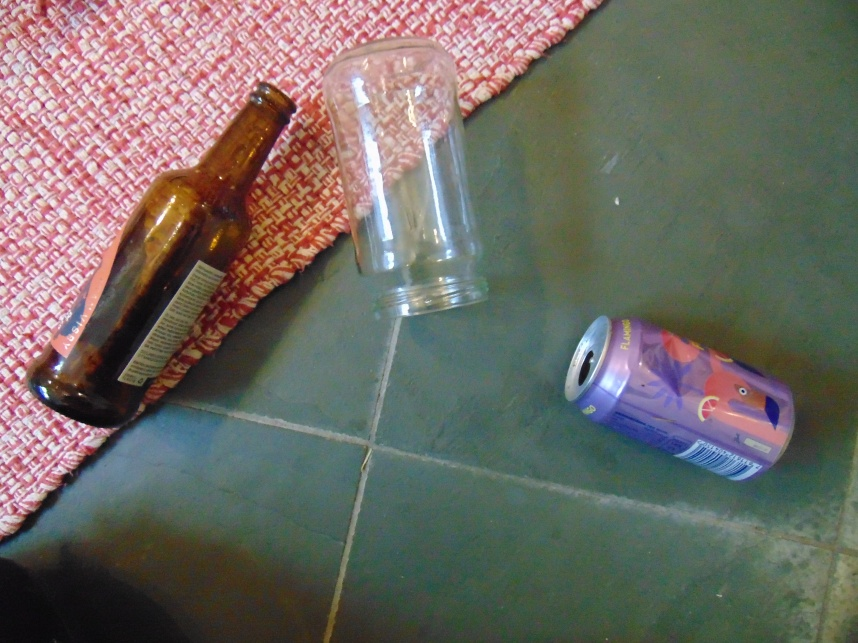glass_bottle: (23, 80, 298, 430), (322, 36, 490, 318)
metal_can: (563, 312, 797, 485)
